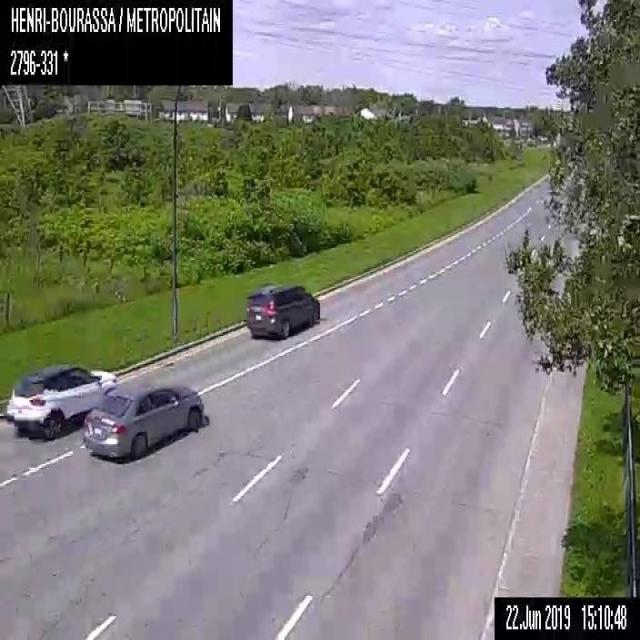vehicle: (83, 381, 203, 460), (5, 360, 115, 437), (245, 283, 319, 337)
